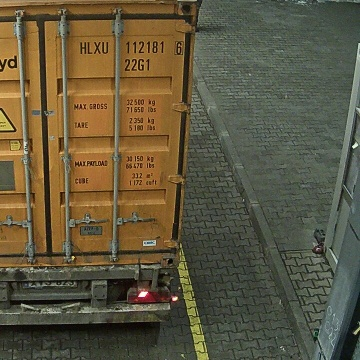serial_id: (80, 41, 182, 54)
